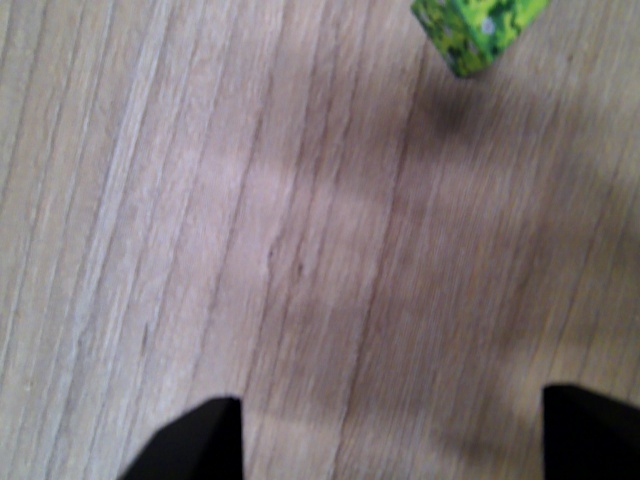grass: (409, 0, 550, 78)
